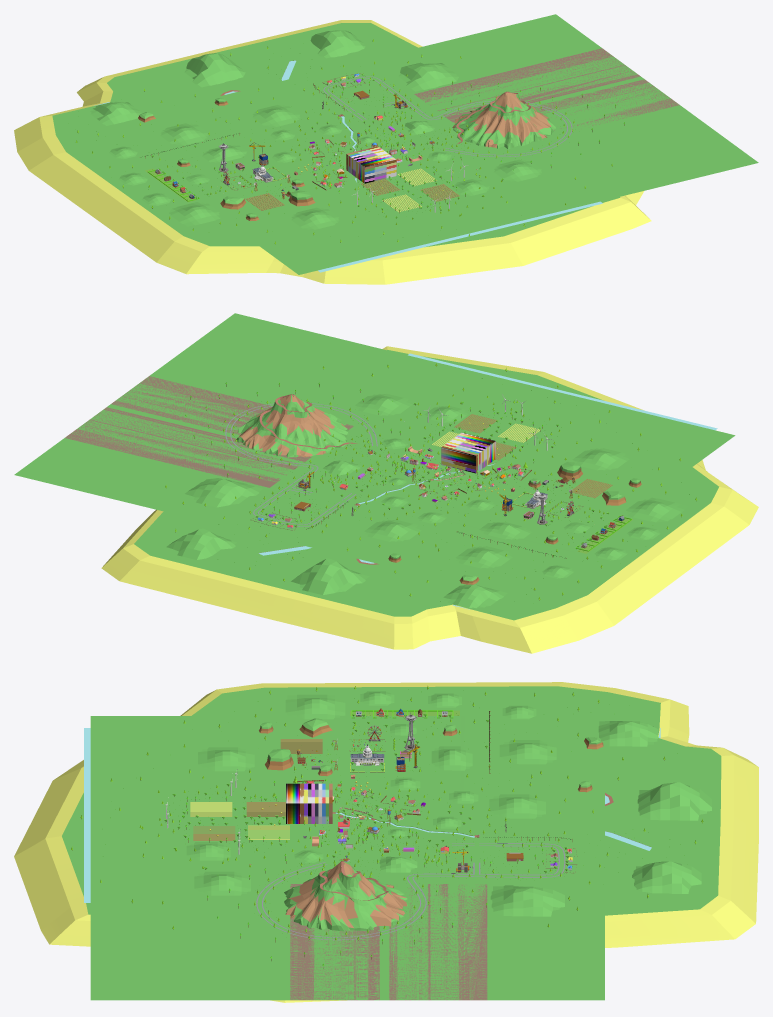
The model's file is map-dude-theft-city.glb.
3 views of the same model, one above another, from view 1: azimuth 30°, elevation 25°; view 2: azimuth 150°, elevation 25°; view 3: azimuth 270°, elevation 25° (orthographic). The views are drawn at different scales.
Visible parts, largest first — view 1: LAND, LAND_Island_edit_001, big_mountain, Cube_4, pahari__2_, pahari__4_, pahari__3_, waterCOlllider, ROAD_2, Pahari_short__10_, pahari__1_, Pahari_short__1_ (+5 smaller); view 2: LAND, LAND_Island_edit_001, big_mountain, Cube_4, pahari__2_, pahari__4_, pahari__3_, pahari__1_, Pahari_short__10_, waterCOlllider, ROAD_2, Pahari_short__1_ (+4 smaller); view 3: LAND, LAND_Island_edit_001, big_mountain, pahari__2_, pahari__4_, Cube_4, pahari__3_, ROAD_2, pahari__1_, Pahari_short__10_, Pahari_short__1_, Pahari_short__6_ (+11 smaller).
Part boxes in pixels (bbox=[...]): LAND: bbox=[96, 14, 758, 274]; LAND_Island_edit_001: bbox=[14, 20, 651, 284]; big_mountain: bbox=[452, 91, 555, 149]; Cube_4: bbox=[346, 146, 396, 183]; pahari__2_: bbox=[184, 53, 245, 87]; pahari__4_: bbox=[398, 62, 458, 91]; pahari__3_: bbox=[310, 30, 365, 58]; waterCOlllider: bbox=[94, 102, 602, 272]; ROAD_2: bbox=[323, 76, 572, 156]; Pahari_short__10_: bbox=[169, 202, 220, 226]; pahari__1_: bbox=[90, 101, 142, 125]; Pahari_short__1_: bbox=[160, 123, 208, 145]; LAND: bbox=[14, 313, 735, 596]; LAND_Island_edit_001: bbox=[101, 346, 758, 653]; big_mountain: bbox=[236, 394, 357, 457]; Cube_4: bbox=[441, 432, 495, 473]; pahari__2_: bbox=[291, 558, 369, 594]; pahari__4_: bbox=[185, 478, 262, 507]; pahari__3_: bbox=[166, 528, 236, 559]; pahari__1_: bbox=[443, 584, 507, 608]; Pahari_short__10_: bbox=[626, 497, 687, 522]; waterCOlllider: bbox=[408, 353, 717, 609]; ROAD_2: bbox=[225, 403, 377, 526]; Pahari_short__1_: bbox=[455, 546, 512, 568]; LAND: bbox=[90, 716, 604, 1000]; LAND_Island_edit_001: bbox=[14, 682, 758, 1002]; big_mountain: bbox=[284, 861, 407, 931]; pahari__2_: bbox=[637, 782, 711, 820]; pahari__4_: bbox=[490, 885, 564, 916]; Cube_4: bbox=[286, 783, 332, 823]; pahari__3_: bbox=[632, 861, 701, 893]; ROAD_2: bbox=[256, 843, 565, 940]; pahari__1_: bbox=[598, 721, 658, 746]; Pahari_short__10_: bbox=[285, 694, 345, 719]; Pahari_short__1_: bbox=[499, 740, 556, 764]; Pahari_short__6_: bbox=[194, 871, 250, 895].
Size of what is drawn, in the model's own units: 2075 by 192 by 1960.
45 materials, 41 textured.
